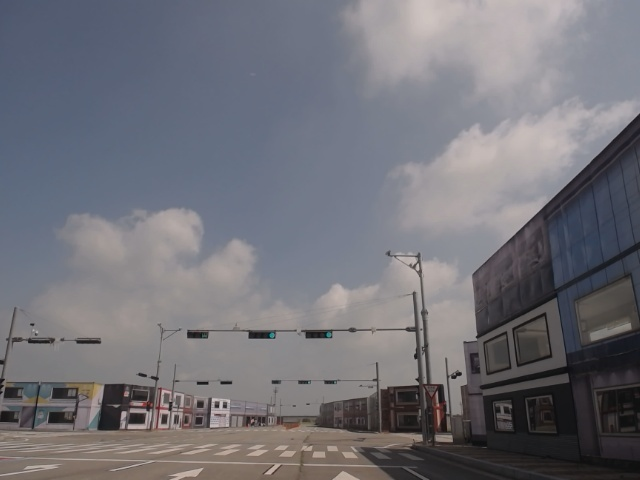straight_green_4: (249, 330, 277, 339), (304, 330, 332, 338)
